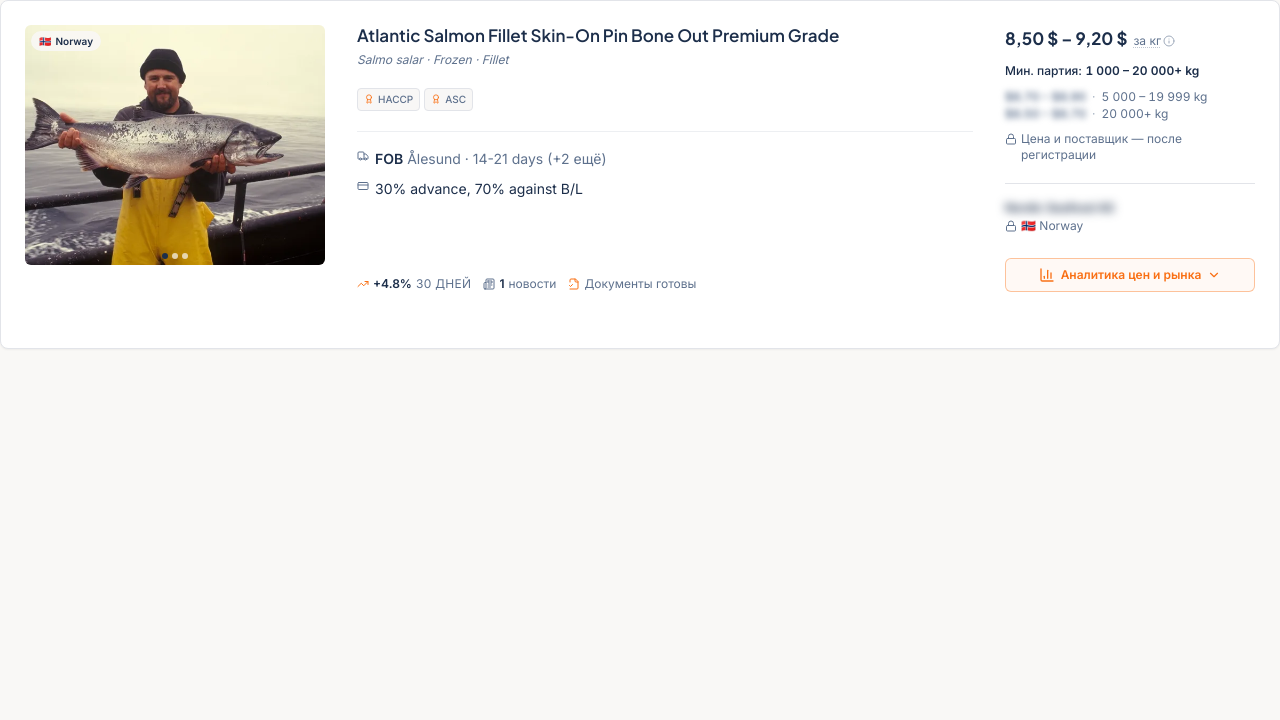
Scenario: CatalogOfferRow · «Аналитика» — live-region и иерархия заголовков › внутри панели подзаголовки секций — h5 (иерархия H3 → H4 → H5)
The width and height of the screenshot is (1280, 720).
Click the button with test id "catalog-row-analytics-toggle" at (1130, 275), box [1005, 258, 1255, 292]
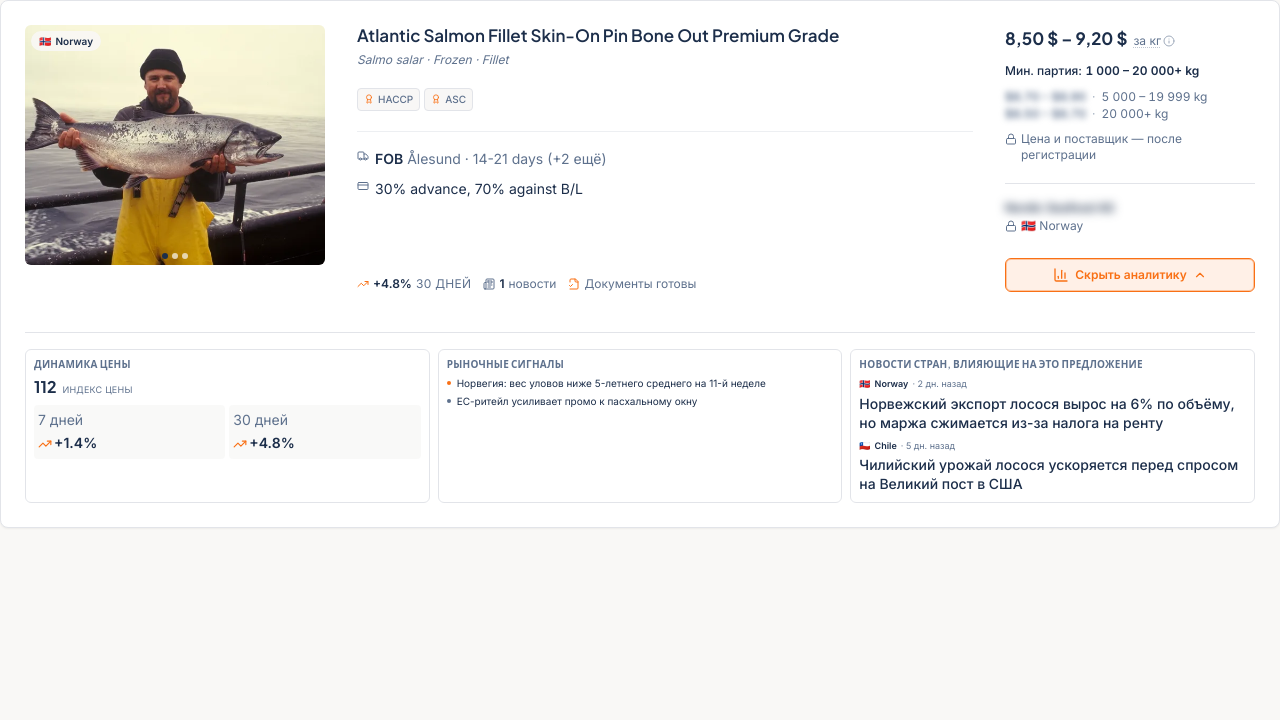
Now the heading "Динамика цены" is shown, box [34, 358, 131, 370]
